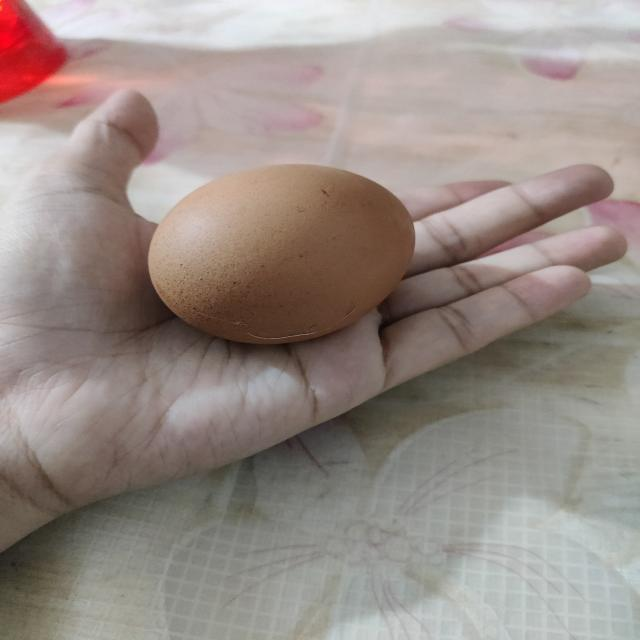Egg: (138, 162, 424, 346)
